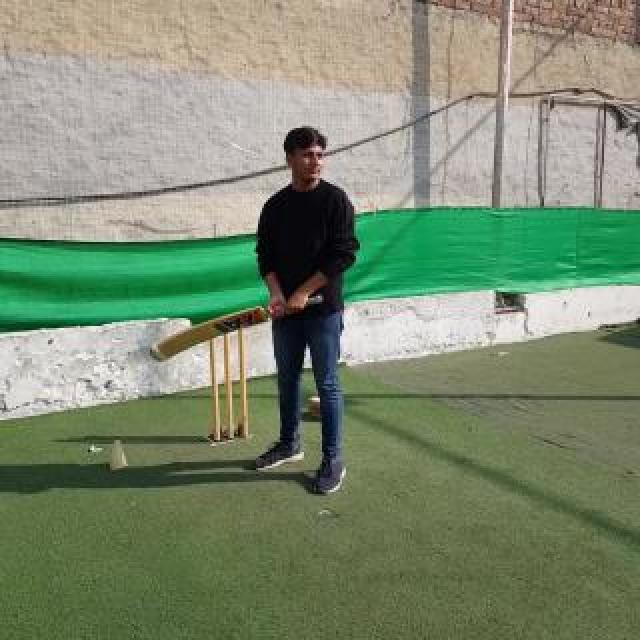bat: (150, 296, 324, 362)
